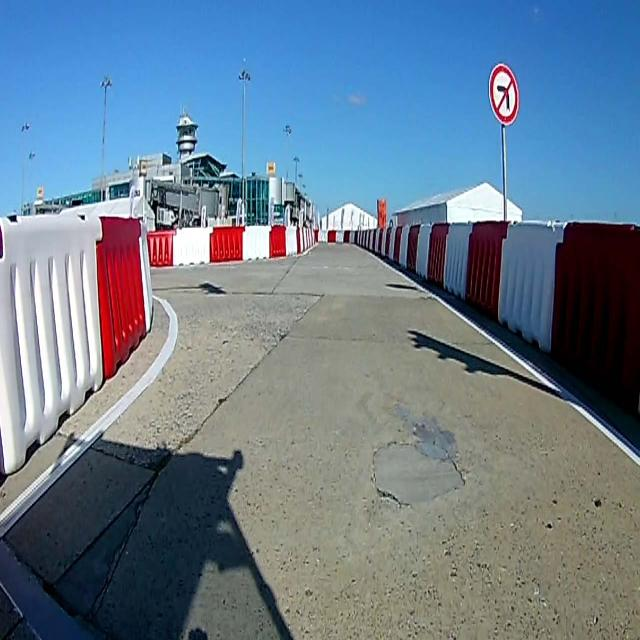soladonulmez: (487, 62, 521, 126)
